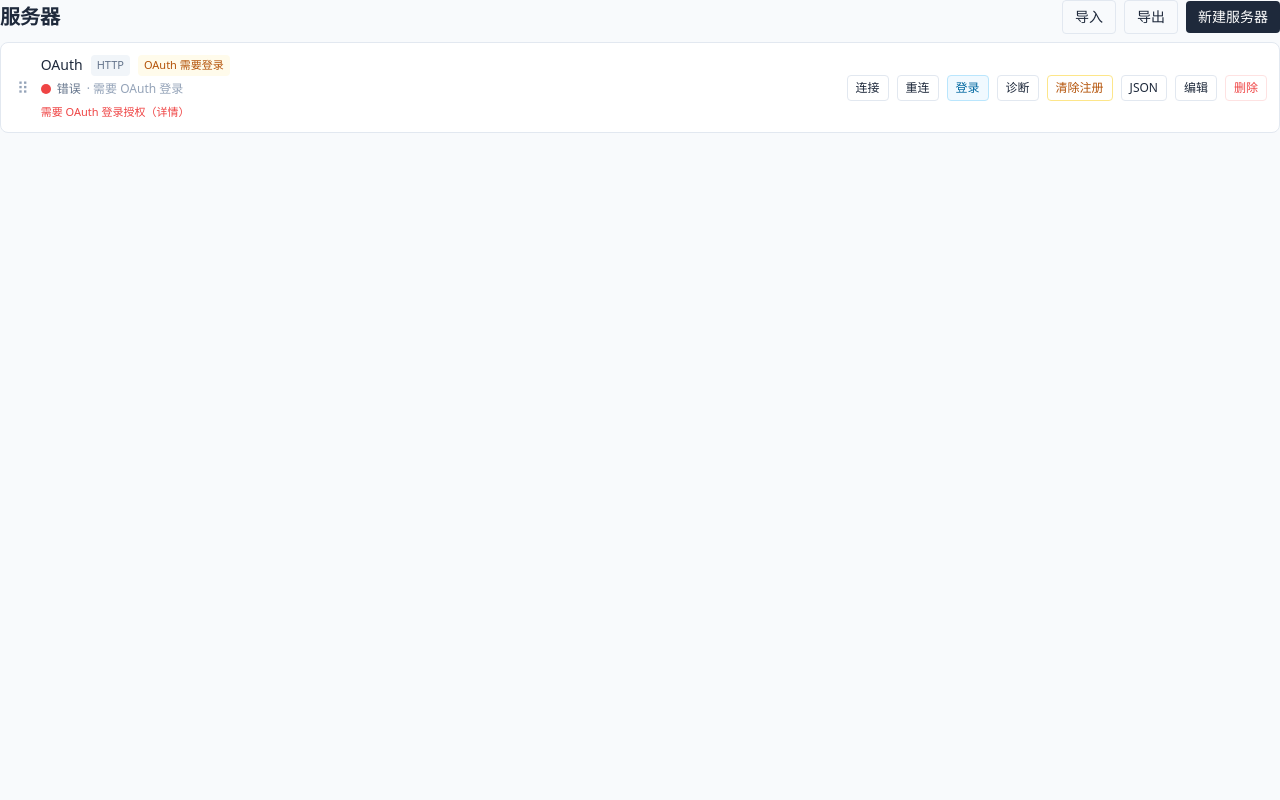
Test: Servers OAuth › 未登录显示登录按钮并打开登录弹层
Check: the text "OAuth 需要登录" is shown, box [138,55,230,76]
Click the button "登录": [968, 88] box [947,74,989,100]
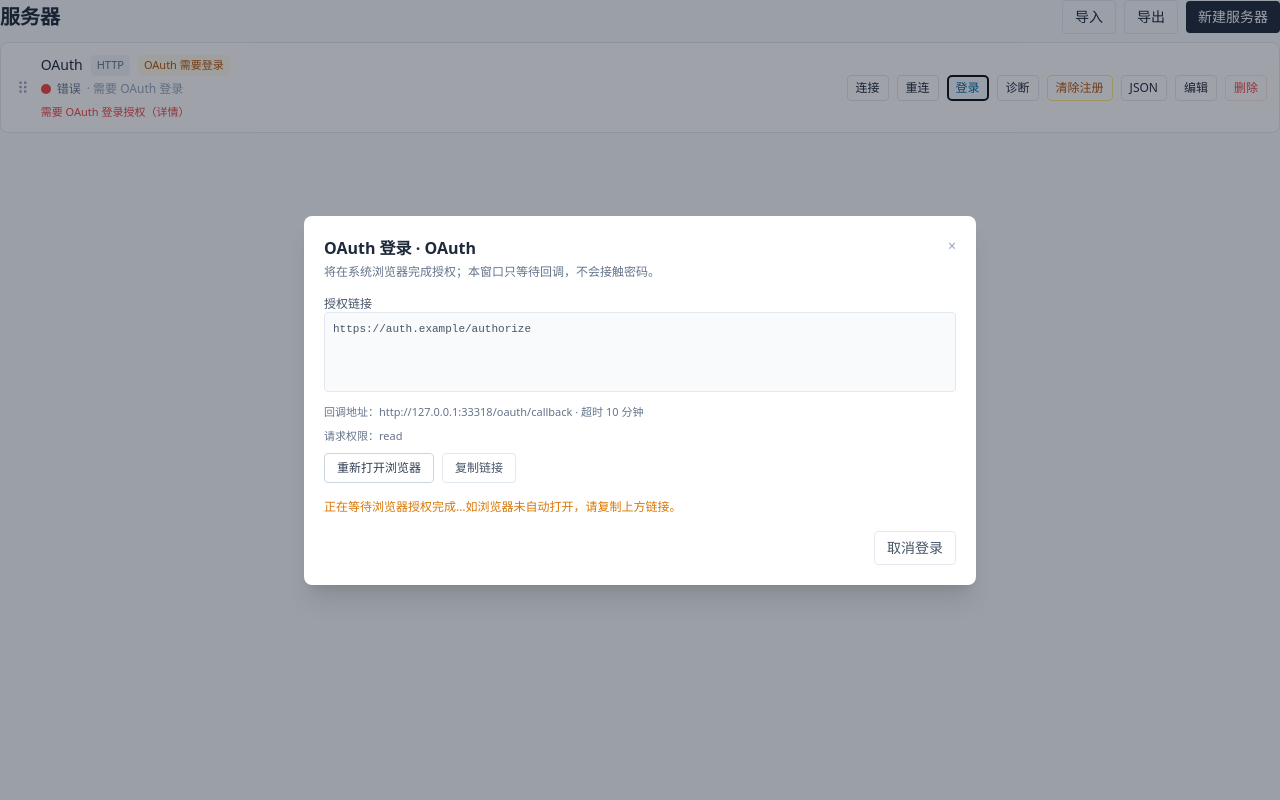
Check: the heading "OAuth 登录 · OAuth" is shown, box [324,236,476,258]
Check: the text box showing "https://auth.example/authorize" is shown, box [324,312,956,392]
